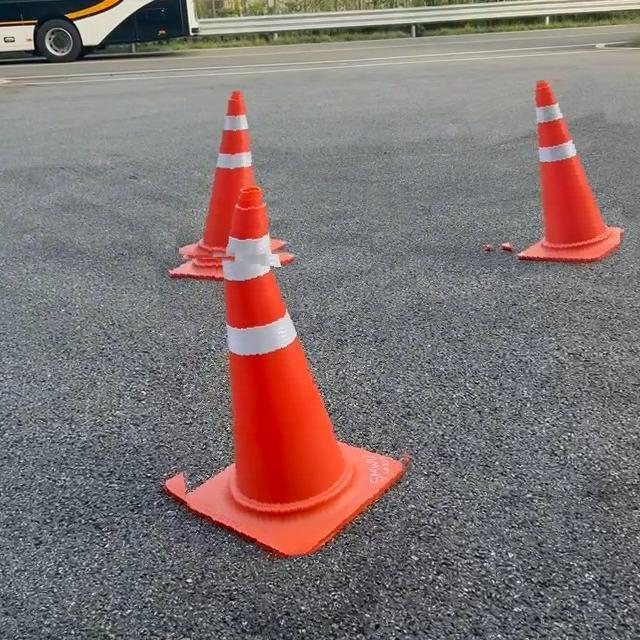fallen_object: (149, 177, 420, 573), (482, 67, 625, 305), (146, 96, 286, 282)
